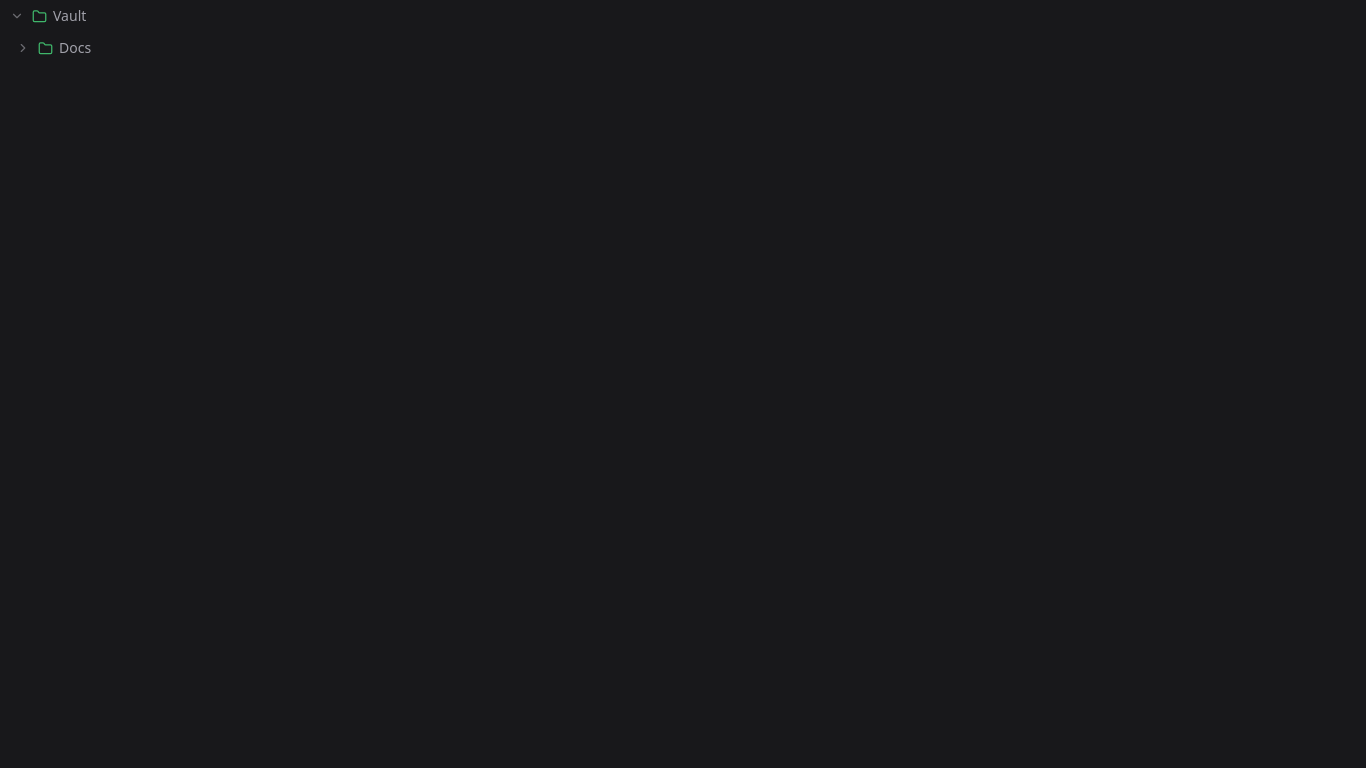
Test: shows floating context menu when right clicking a folder and opens creation modal
Later steps or results of the test are not shown.
Right-click the element showing "Docs" at x=54, y=48, box [16,38,91,57]
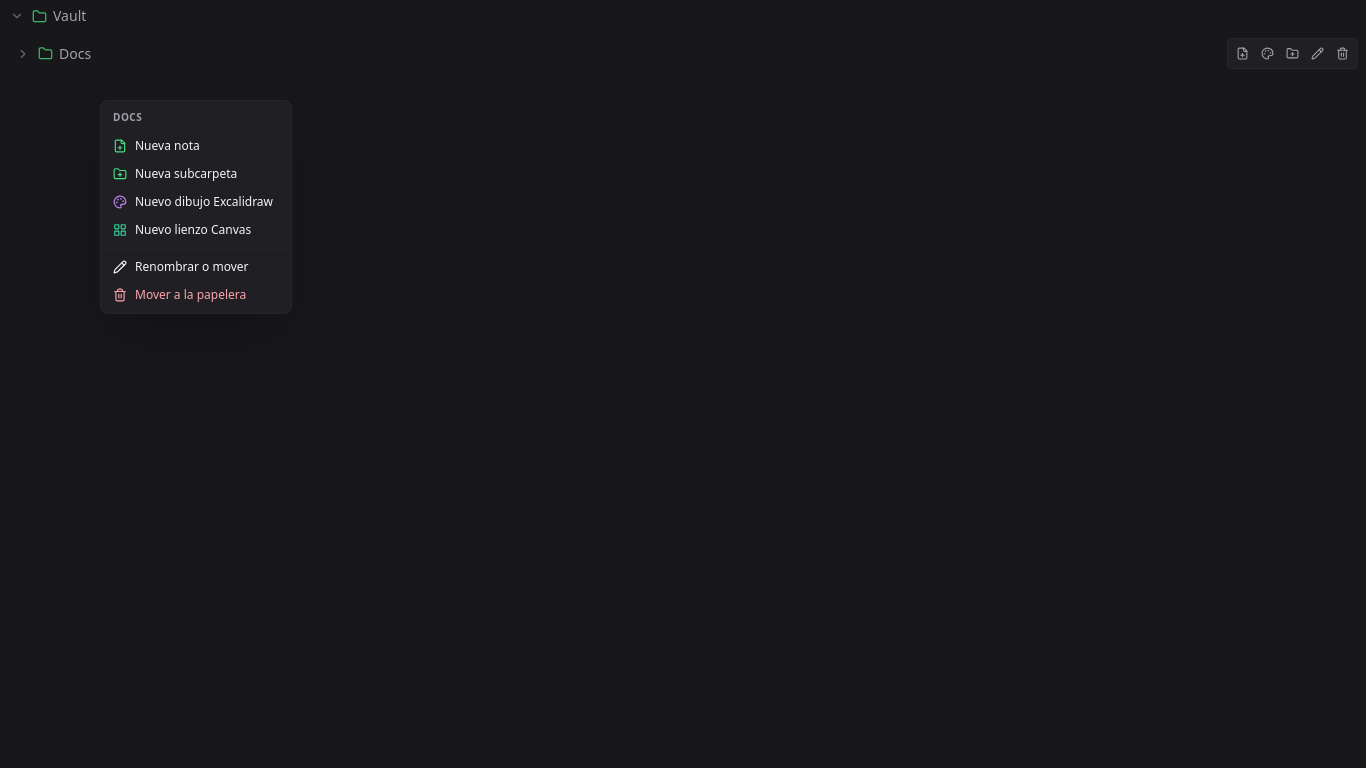
Now the menu named "Acciones de archivo" is shown, box [100,100,292,314]
Now the menu named "Acciones de archivo" shows "Nueva subcarpeta"
Now the menu named "Acciones de archivo" shows "Nueva nota", box [101,132,291,160]
Click the menu item "Nueva subcarpeta" at x=196, y=174, box [101,160,291,188]
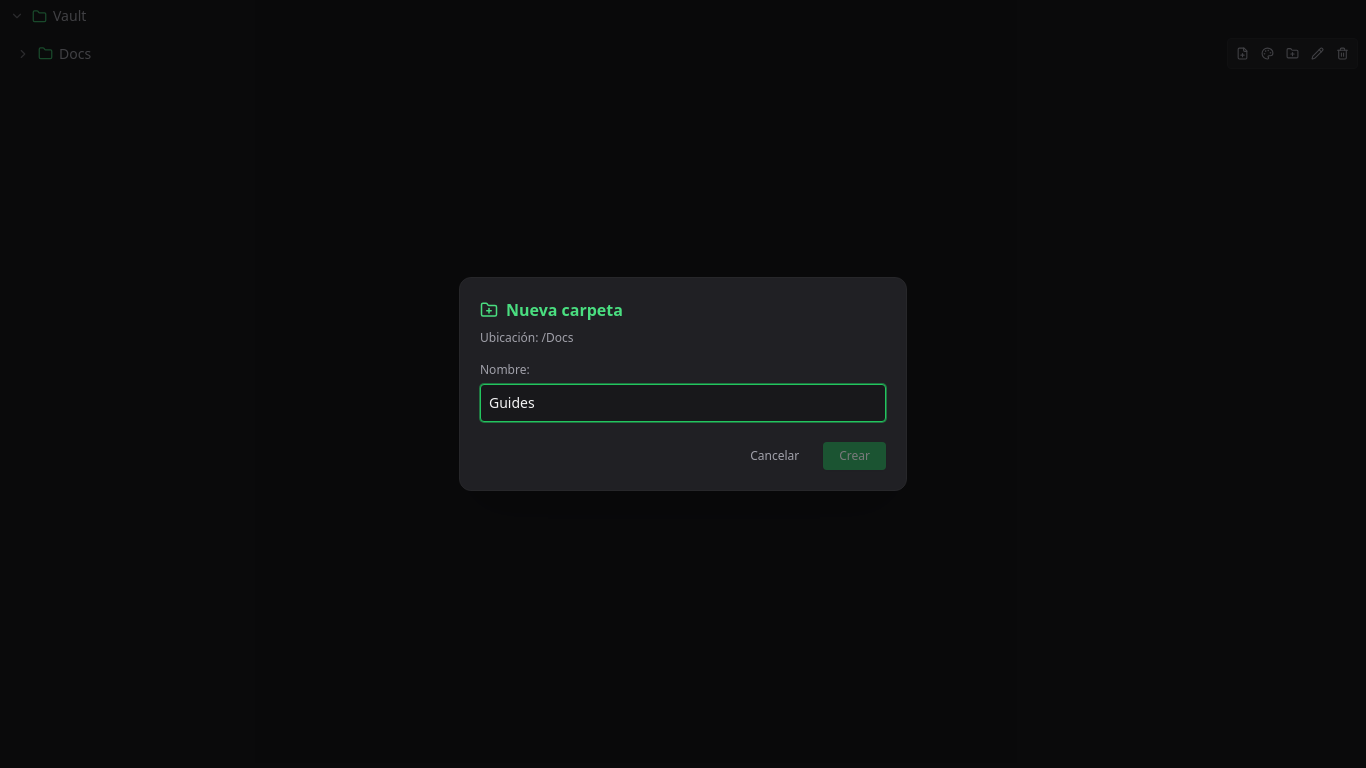
Now the dialog named "Nueva carpeta" is shown, box [459,277,907,491]
Now the dialog named "Nueva carpeta" shows "Ubicación: /Docs", box [480,329,574,346]
Now the field labelled "Nombre:" is shown, box [480,384,886,422]
